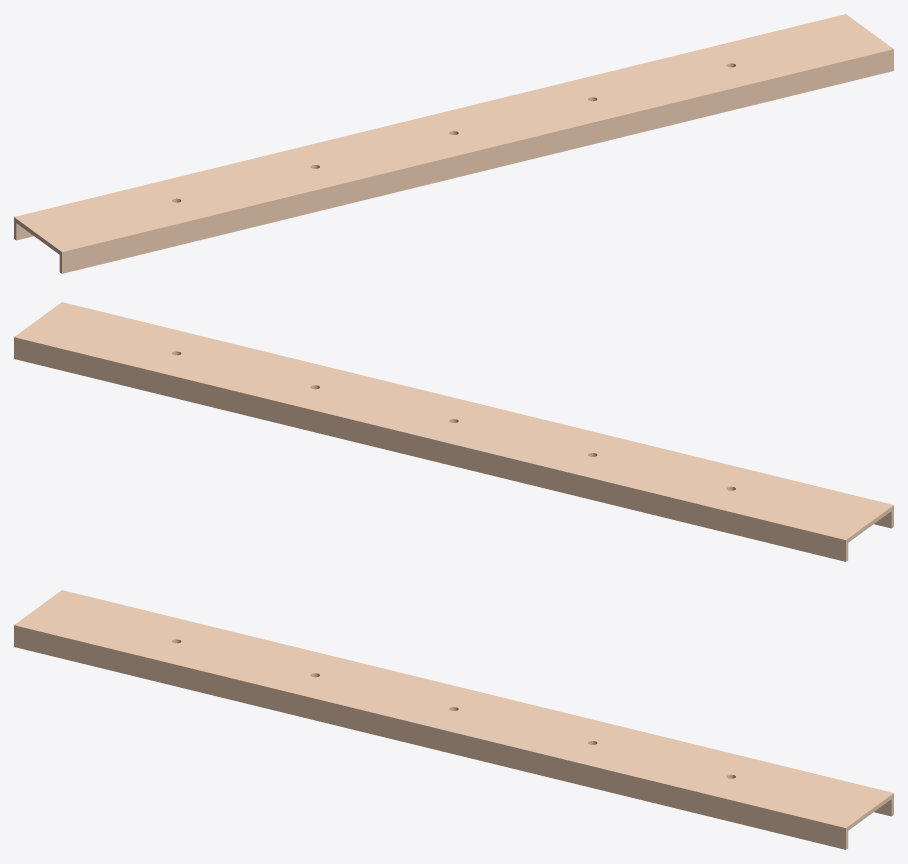
The model's file is SPBA-RETROBALL-P5-Gold.glb.
3 views of the same model, one above another, from view 1: azimuth 30°, elevation 25°; view 2: azimuth 150°, elevation 25°; view 3: azimuth 330°, elevation 25° (orthographic).
Parts seen in each view (by area): view 1: Mesh_2.002; view 2: Mesh_2.002; view 3: Mesh_2.002.
Part boxes in pixels (<box>): Mesh_2.002: <box>14,14,893,273</box>; Mesh_2.002: <box>14,302,893,561</box>; Mesh_2.002: <box>14,590,893,849</box>.
Bounding box in the file's own units: 1 × 0.025 × 0.1.
